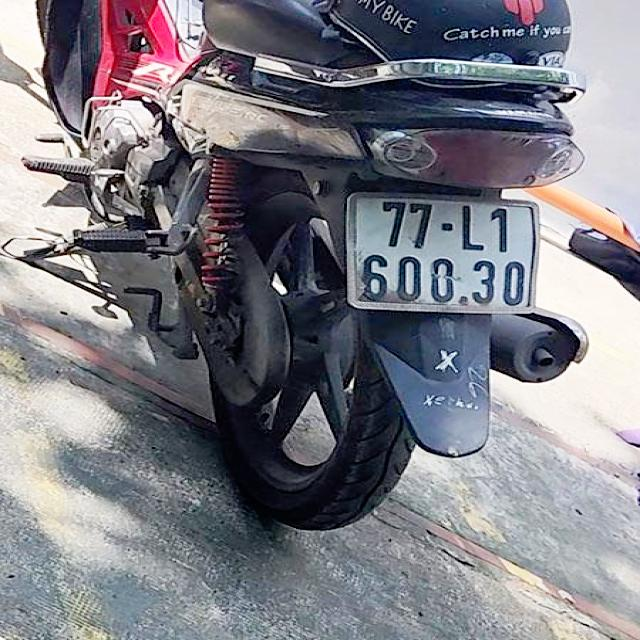license_plate: (349, 197, 536, 312)
